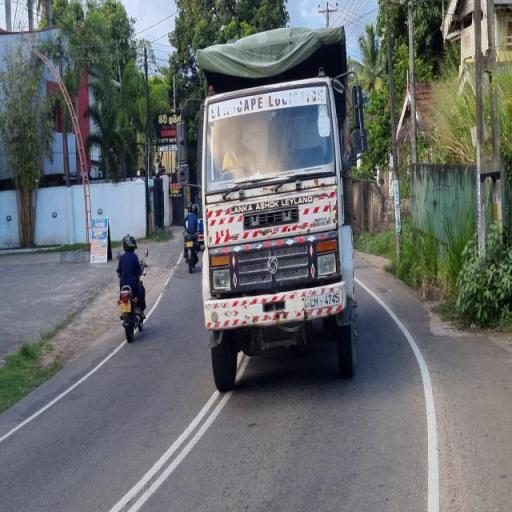double_white_line: (0, 330, 126, 445), (109, 390, 224, 512)
